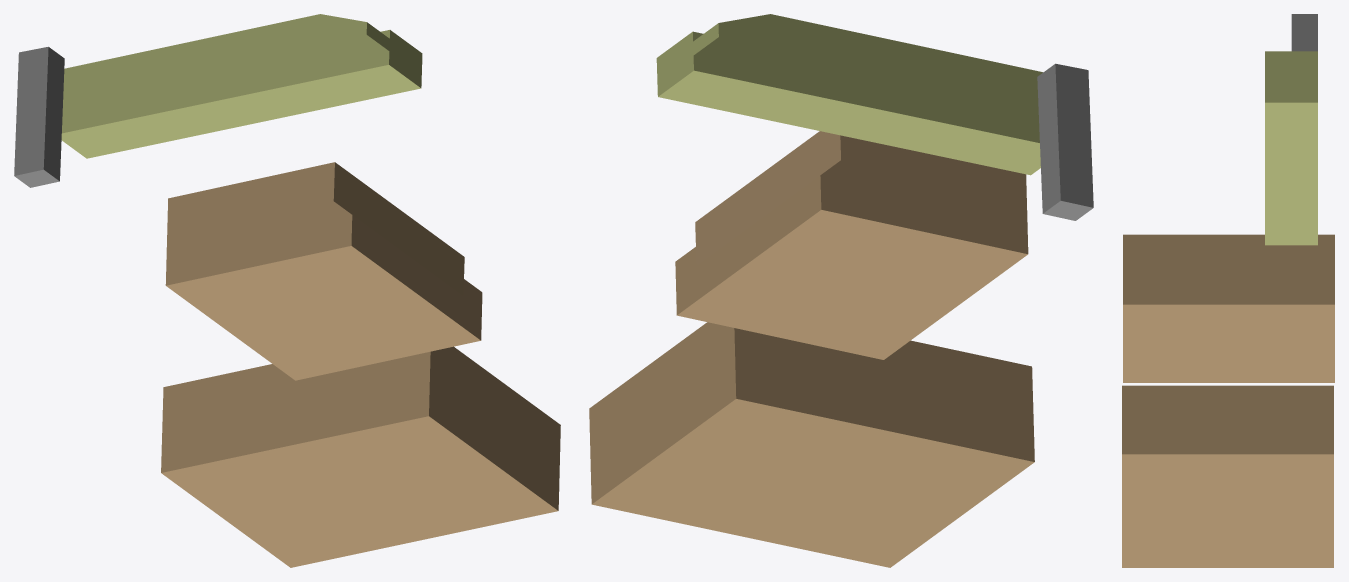
The picture shows the model from 3 angles, left to right: view 1: azimuth 30°, elevation 25°; view 2: azimuth 150°, elevation 25°; view 3: azimuth 270°, elevation 25°; orthographic projection. The views are drawn at different scales.
Visible parts, largest first — view 1: 0_3_0_2_1_2_2_1; view 2: 0_3_0_2_1_2_2_1; view 3: 0_3_0_2_1_2_2_1.
Boxes of the visible parts, box(x1,y1,x2,y2) form: 0_3_0_2_1_2_2_1: box(14, 14, 560, 567); 0_3_0_2_1_2_2_1: box(589, 14, 1093, 567); 0_3_0_2_1_2_2_1: box(1122, 14, 1334, 567).
Bounding box in the file's own units: 45.59 × 48.31 × 24.1.
